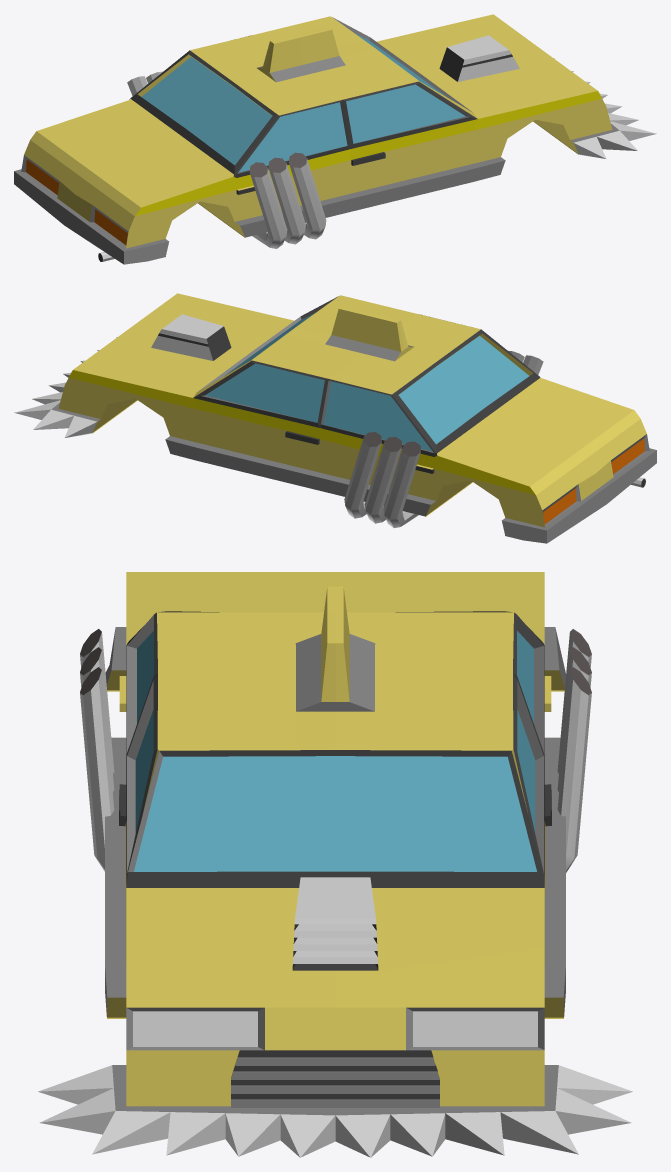
Rendered from Taxi Cab.fbx.
3 views of the same model, one above another, from view 1: azimuth 30°, elevation 25°; view 2: azimuth 150°, elevation 25°; view 3: azimuth 270°, elevation 25° (orthographic). The views are drawn at different scales.
Parts seen in each view (by area): view 1: pCube3, Pipe:polySurface1, polySurface1, polySurface2; view 2: pCube3, Pipe:polySurface1, polySurface1, polySurface2; view 3: pCube3, polySurface2, polySurface1, Pipe:polySurface1.
Part boxes in pixels (x1,y1,x2,y2): pCube3: [14, 14, 656, 264]; Pipe:polySurface1: [127, 76, 286, 248]; polySurface1: [146, 71, 305, 244]; polySurface2: [289, 152, 326, 239]; pCube3: [14, 293, 656, 543]; Pipe:polySurface1: [383, 355, 543, 527]; polySurface1: [364, 350, 524, 523]; polySurface2: [344, 432, 381, 518]; pCube3: [38, 572, 632, 1157]; polySurface2: [80, 667, 591, 872]; polySurface1: [80, 647, 591, 792]; Pipe:polySurface1: [80, 629, 591, 773].
Size of the model in its own units: 20.17 by 5.56 by 9.72.
